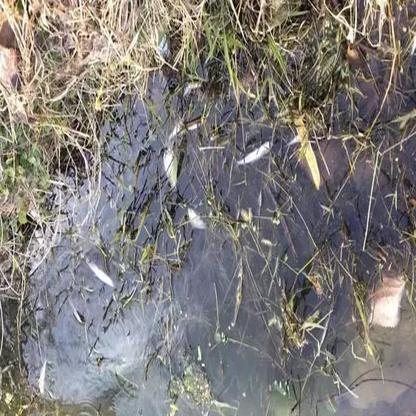deceased fish: (234, 138, 283, 167), (81, 254, 119, 291)
